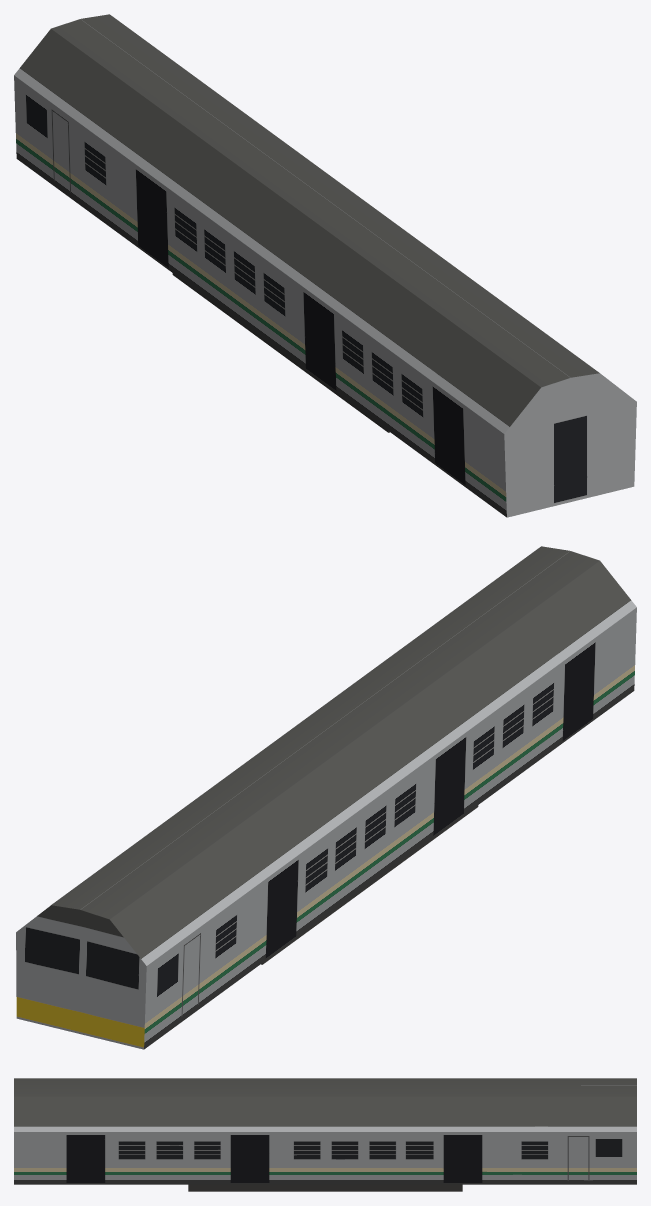
The model's file is emu_cab_lod2.glb.
3 renders of one model, top to bottom at view 1: azimuth 30°, elevation 25°; view 2: azimuth 150°, elevation 25°; view 3: azimuth 270°, elevation 25°, orthographic. The views are drawn at different scales.
Visible parts, largest first — view 1: body; view 2: body; view 3: body.
Boxes of the visible parts, box(x1,y1,x2,y2) form: body: box(14, 14, 636, 517); body: box(16, 546, 636, 1049); body: box(14, 1078, 636, 1191).
Size of the model in its own units: 3.25 by 3.38 by 20.8.
Materials: 2 (2 with a texture image).
